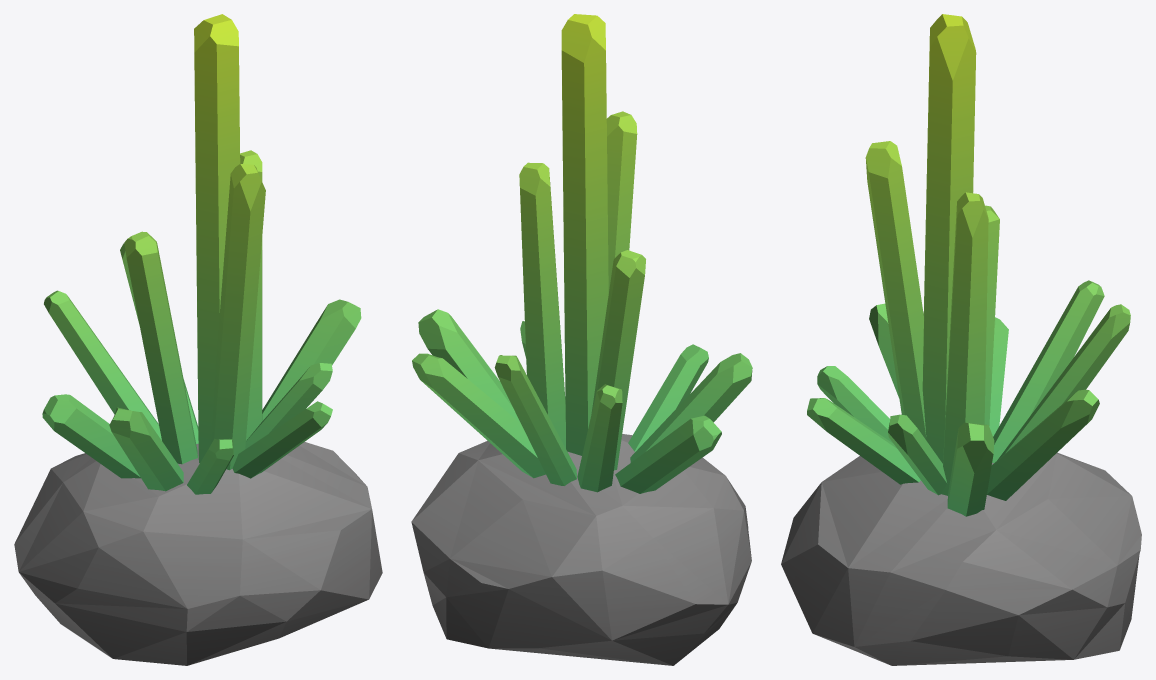
Rendered from min_6.glb.
3 renders of one model, left to right at view 1: azimuth 30°, elevation 25°; view 2: azimuth 150°, elevation 25°; view 3: azimuth 270°, elevation 25°, orthographic. The views are drawn at different scales.
Visible parts, largest first — view 1: crystal_basalt_green.033_SimplePolygonPalette_0; view 2: crystal_basalt_green.033_SimplePolygonPalette_0; view 3: crystal_basalt_green.033_SimplePolygonPalette_0.
Part boxes in pixels (box(x1,y1,x2,y2)): crystal_basalt_green.033_SimplePolygonPalette_0: box(14, 14, 382, 665); crystal_basalt_green.033_SimplePolygonPalette_0: box(411, 14, 752, 665); crystal_basalt_green.033_SimplePolygonPalette_0: box(781, 14, 1141, 665).
Bounding box in the file's own units: 1.83 × 3.27 × 1.7.
Materials: 1 (1 with a texture image).
